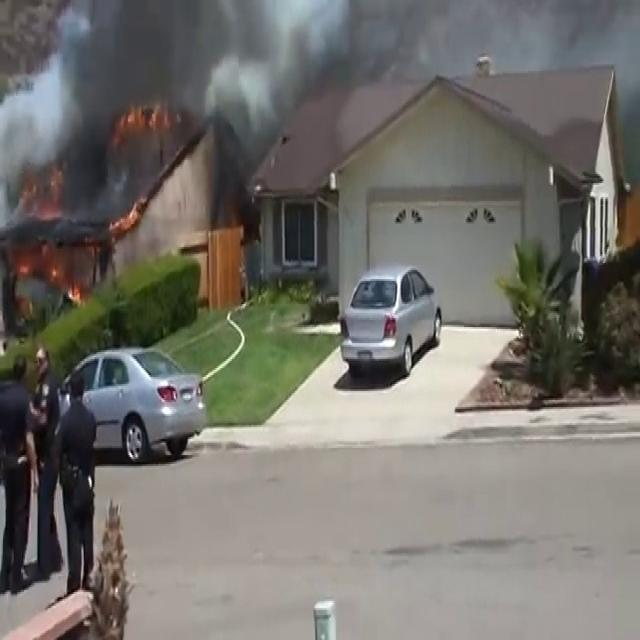Smoke: (0, 0, 398, 210)
